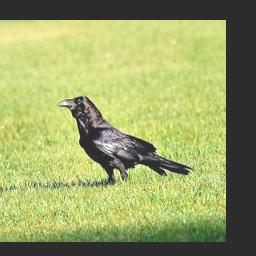Crow: (54, 94, 194, 187)
